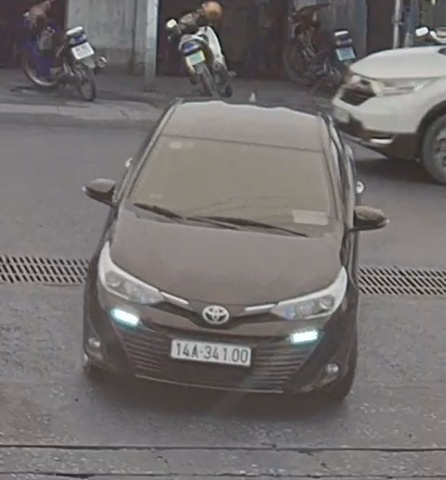vehicle plate: (168, 337, 254, 367)
